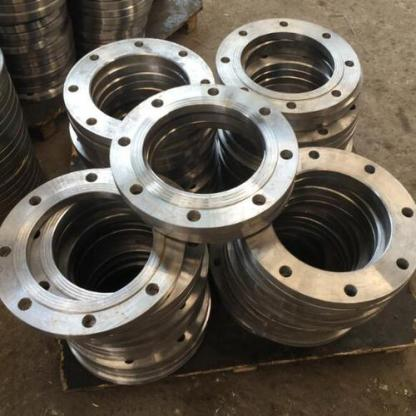FOD: (0, 167, 196, 340), (233, 142, 415, 318), (105, 83, 301, 240)
